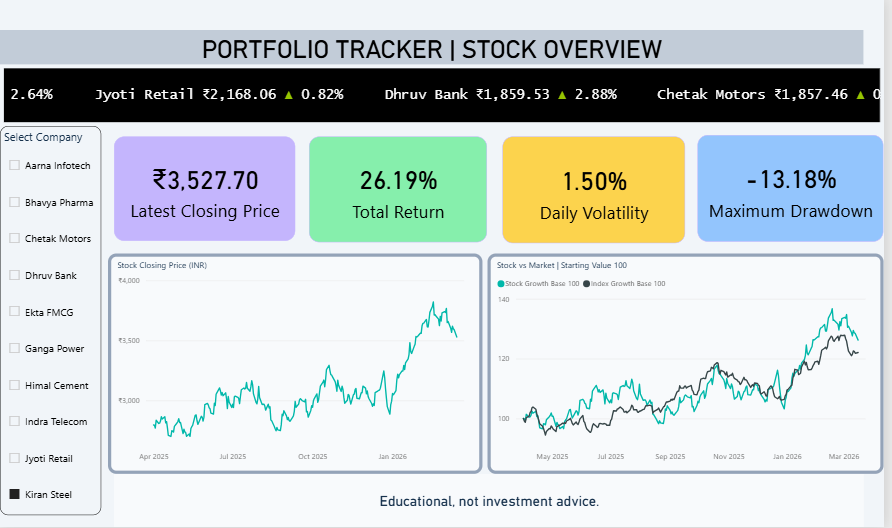

What the dashboard file says about the page in this screenshot:
{"tool":"powerbi","page":{"name":"Stock Dashboard","canvas":[1280,720],"ordinal":0},"visuals":[{"type":"card","fields":{"Values":["Prices.Stock Overview Page Title"]},"box":[0,0,1251.4,49.9],"z":0},{"type":"slicer","title":"Select Company","fields":{"Values":["Companies.company"]},"box":[0,138.1,146.4,564.1],"z":1000},{"type":"card","title":"Latest Closing Price","fields":{"Values":["Prices.Latest Price"]},"box":[164.7,154.8,262.9,151.4],"z":2000},{"type":"card","title":"Total Price Return","fields":{"Values":["Prices.Total Return"]},"box":[447.7,154.8,257.9,153.1],"z":3000},{"type":"card","title":"Daily Volatility","fields":{"Values":["Prices.Daily Volatility"]},"box":[728.9,154.8,264.6,154.8],"z":4000},{"type":"card","title":"Maximum Drawdown","fields":{"Values":["Prices.Maximum Drawdown"]},"box":[1010.1,151.4,269.6,154.8],"z":5000},{"type":"lineChart","title":"Stock Closing Price (INR)","fields":{"Category":["Dates.Date"],"Y":["Prices.Stock Price"]},"box":[156.4,324.5,542.5,319.5],"z":6000},{"type":"lineChart","title":"Stock vs Market | Starting Value 100","fields":{"Category":["Dates.Date"],"Y":["Prices.Stock Growth Base 100","Prices.Index Growth Base 100"]},"box":[705.6,324.5,574.1,319.5],"z":7000},{"type":"card","fields":{"Values":["Prices.Notice"]},"box":[164.7,644,1086.7,76.6],"z":8000},{"type":"ScrollingTextVisual1448795304508","fields":{"Category":["Companies.company"],"Measure Absolute":["Prices.Latest Price"],"Measure Deviation":["Prices.Latest Daily Change"]},"box":[0,49.9,1279.7,88.2],"z":9000},{"type":"textbox","box":[100,100,300,300],"z":10000}]}

Visuals, with their boxes in screenshot pixels (x1, y1, x2, y2):
card - Prices.Stock Overview Page Title: (0,28,860,62)
"Select Company" slicer: (0,123,101,510)
"Latest Closing Price" card: (113,134,294,238)
"Total Price Return" card: (308,134,485,239)
"Daily Volatility" card: (501,134,683,241)
"Maximum Drawdown" card: (694,132,879,238)
"Stock Closing Price (INR)" lineChart: (107,251,480,470)
"Stock vs Market | Starting Value 100" lineChart: (485,251,879,470)
card - Prices.Notice: (113,470,860,523)
ScrollingTextVisual1448795304508 - Companies.company x Prices.Latest Price: (0,62,879,123)
textbox: (69,97,275,303)
